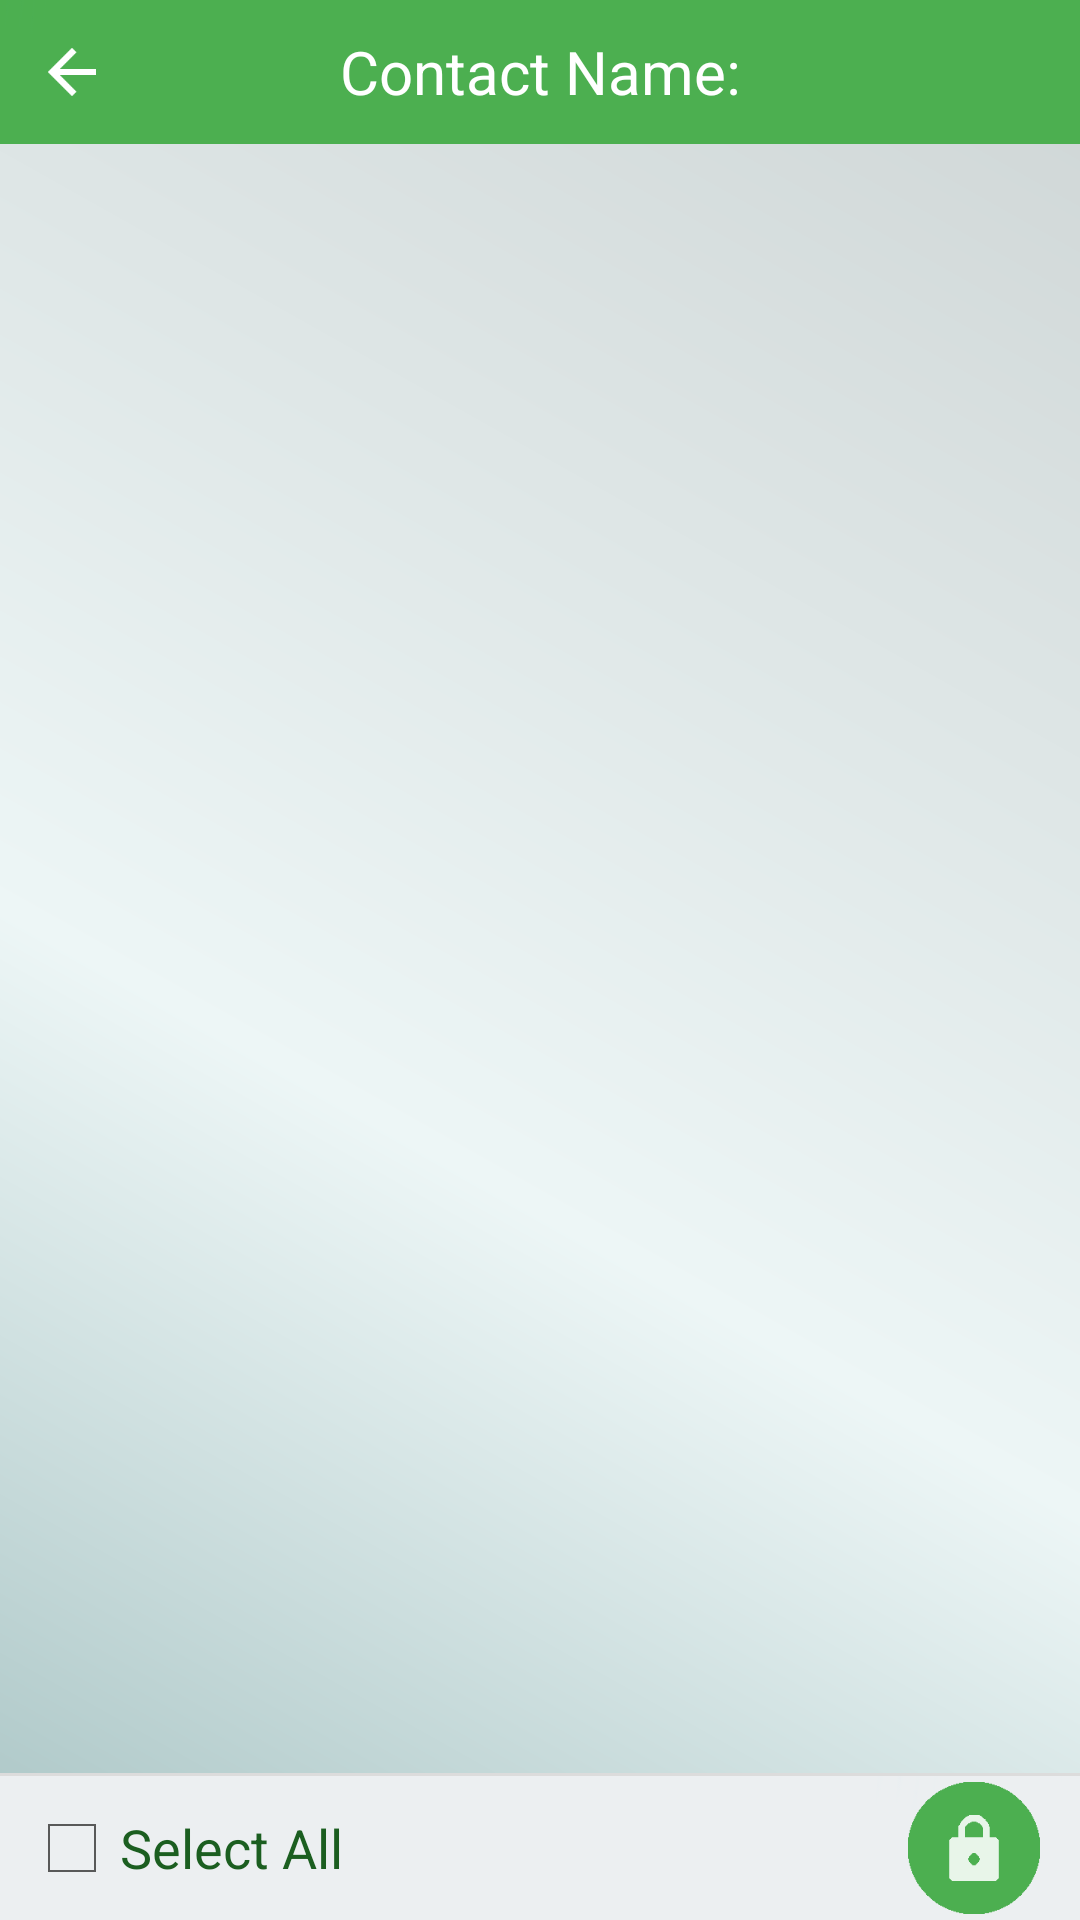

Point at icon controls on the screen. Image size 1080×1920, points as [x,y].
Back: [72,72]
Encrypt: [974,1848]
